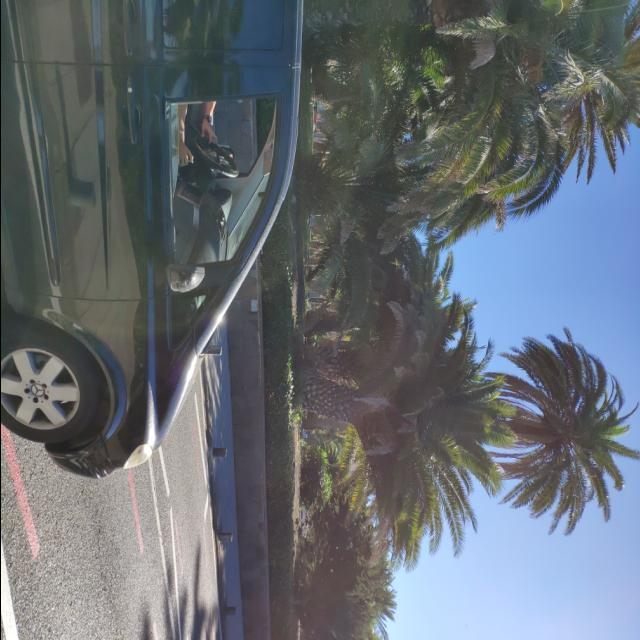Palm-Trees: (298, 330, 514, 500), (476, 326, 640, 542)
